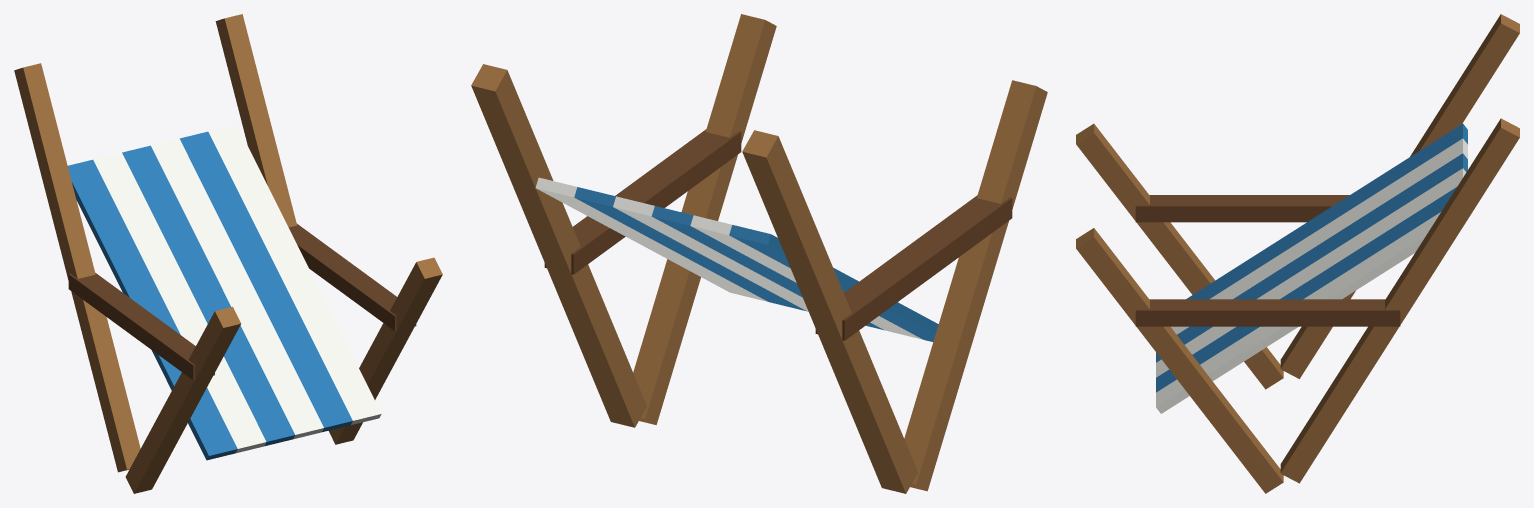
Rendered from DeckChair.glb.
3 views of the same model, side by side, from view 1: azimuth 30°, elevation 25°; view 2: azimuth 150°, elevation 25°; view 3: azimuth 270°, elevation 25° (orthographic). The views are drawn at different scales.
Parts seen in each view (by area): view 1: DeckChair; view 2: DeckChair; view 3: DeckChair.
Boxes of the visible parts, x1,y1,x2,y2 form: DeckChair: (14,14,442,493); DeckChair: (471,14,1047,493); DeckChair: (1076,14,1519,493).
Bounding box in the file's own units: 0.62 × 0.917 × 1.01.
